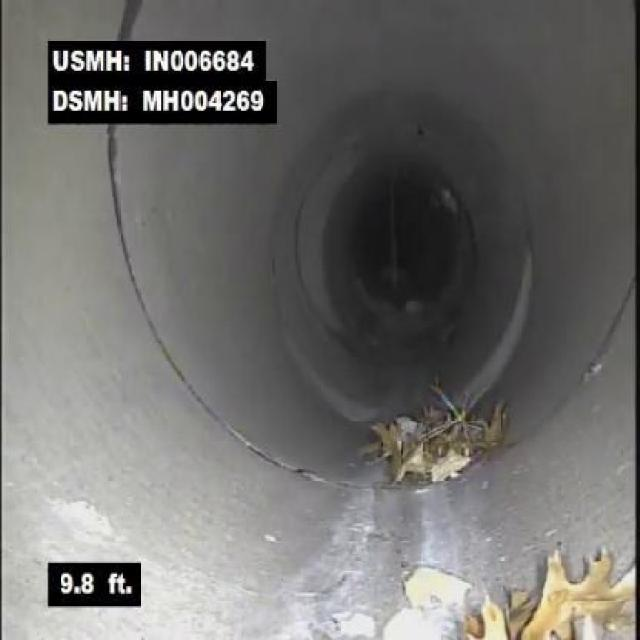Joint offset: (459, 260, 543, 408)
